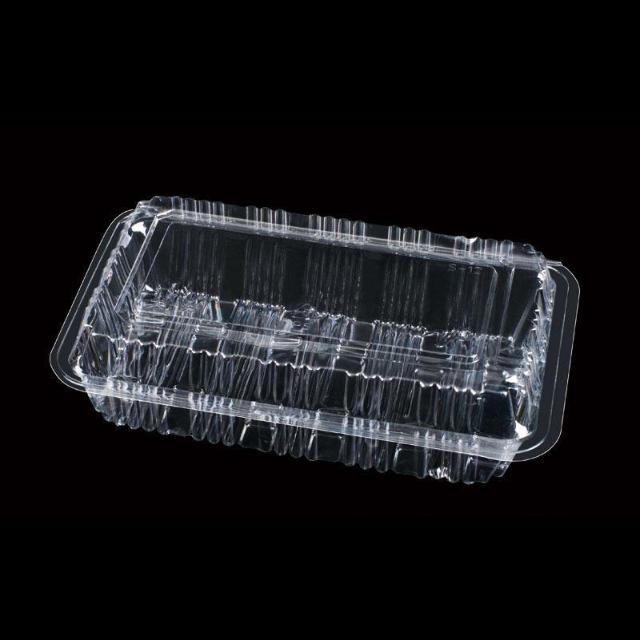plastic_box: (43, 191, 583, 491)
